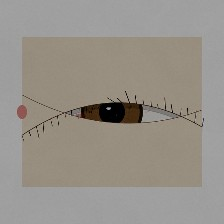hemorrhage_spot: (50, 87, 147, 165)
